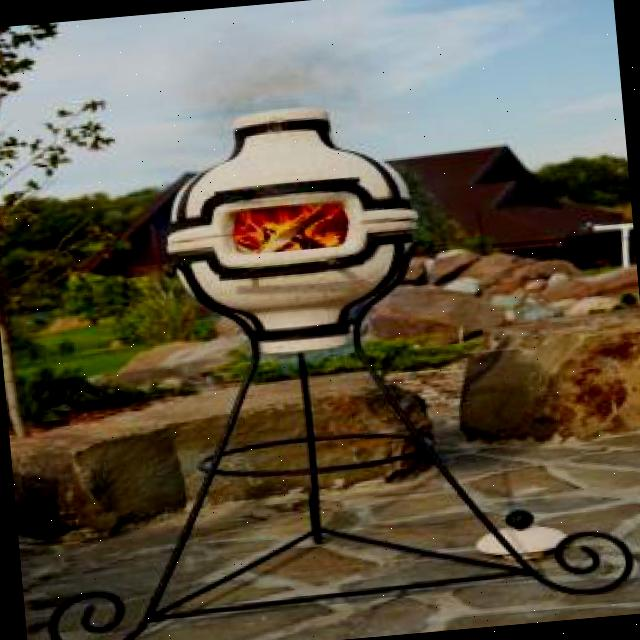fire: (222, 199, 350, 267)
